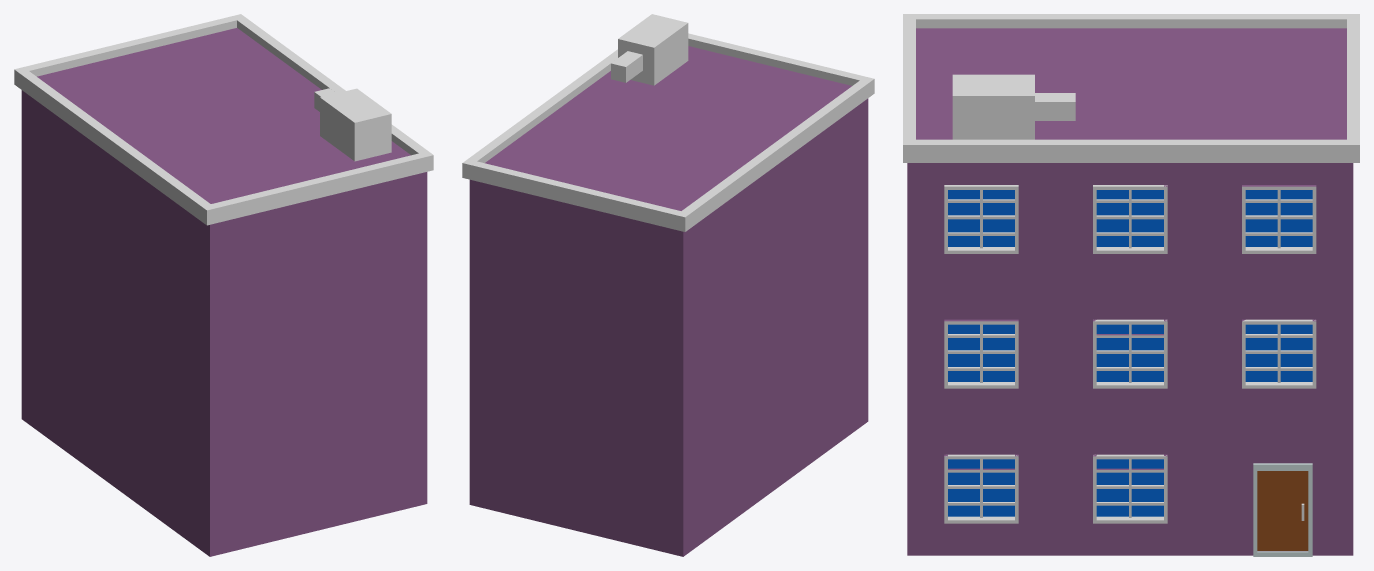
File: NEWbuild3.fbx
The picture shows the model from 3 angles, left to right: view 1: azimuth 30°, elevation 25°; view 2: azimuth 150°, elevation 25°; view 3: azimuth 270°, elevation 25°; orthographic projection. The views are drawn at different scales.
Visible parts, largest first — view 1: Cube.009, Cube.001, Cube, Cube.011, Cube.010, Cube.015, Cube.007, Cube.008, Cube.002, Cube.003, Cube.013; view 2: Cube.011, Cube.008, Cube.007, Cube.010, Cube.009, Cube.015, Cube.004, Cube.001, Cube, Cube.002, Cube.003, Cube.013 (+1 smaller); view 3: Cube.010, Cube.011, Cube.009, Cube.015, Cube.008, Cube, Cube.001, Cube.002, Cube.003, Cube.004, Cube.013, Cube.006 (+2 smaller).
Boxes of the visible parts, x1,y1,x2,y2 form: Cube.009: (147,127,427,329); Cube.001: (147,276,427,442); Cube: (147,390,427,556); Cube.011: (21,28,296,236); Cube.010: (84,72,321,282); Cube.015: (14,14,433,225); Cube.007: (21,306,84,464); Cube.008: (21,192,84,350); Cube.002: (84,351,146,510); Cube.003: (84,238,146,396); Cube.013: (320,88,391,161); Cube.011: (469,125,744,333); Cube.008: (469,281,744,444); Cube.007: (576,400,744,556); Cube.010: (536,80,806,287); Cube.009: (598,46,868,242); Cube.015: (462,33,874,231); Cube.004: (469,393,576,530); Cube.001: (806,198,868,354); Cube: (806,310,868,466); Cube.002: (745,355,806,511); Cube.003: (745,243,806,399); Cube.013: (618,14,688,85); Cube.010: (1056,28,1204,285); Cube.011: (1204,28,1353,285); Cube.009: (907,28,1055,285); Cube.015: (903,14,1359,162); Cube.008: (1204,286,1353,420); Cube: (907,421,1055,555); Cube.001: (907,286,1055,420); Cube.002: (1056,421,1204,555); Cube.003: (1056,286,1204,420); Cube.004: (1204,421,1353,555); Cube.013: (952,74,1034,139); Cube.006: (1257,471,1308,550).
Size of the model in its own units: 417 by 668 by 614.
